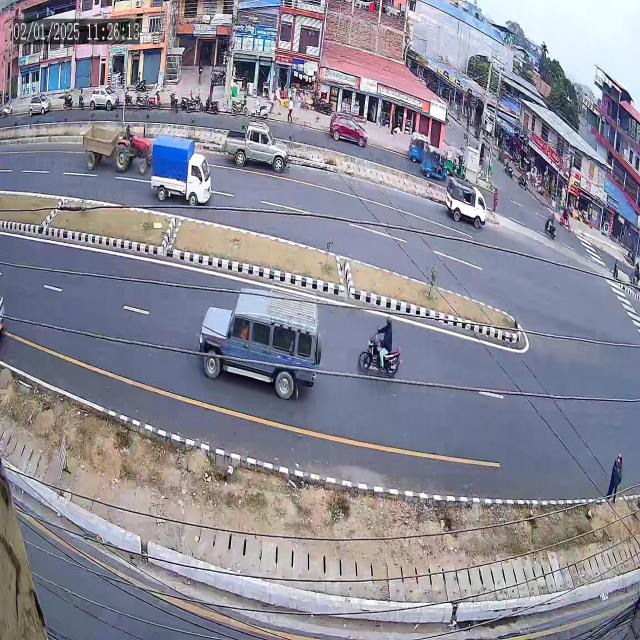motorcycle: (354, 294, 410, 400), (541, 200, 561, 245)
van: (441, 177, 492, 230)
